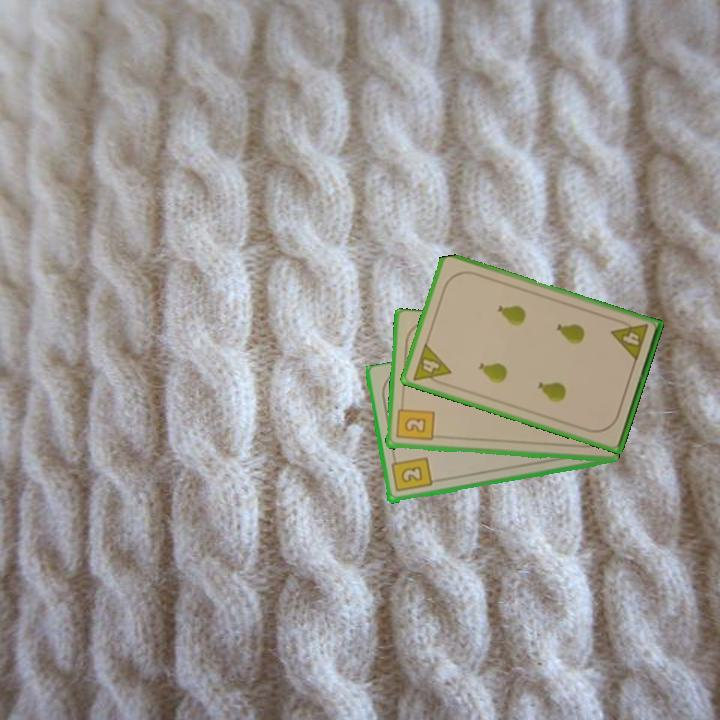2b: (388, 453, 434, 495), (393, 400, 436, 444)
4p: (409, 340, 454, 389), (608, 316, 651, 364)
